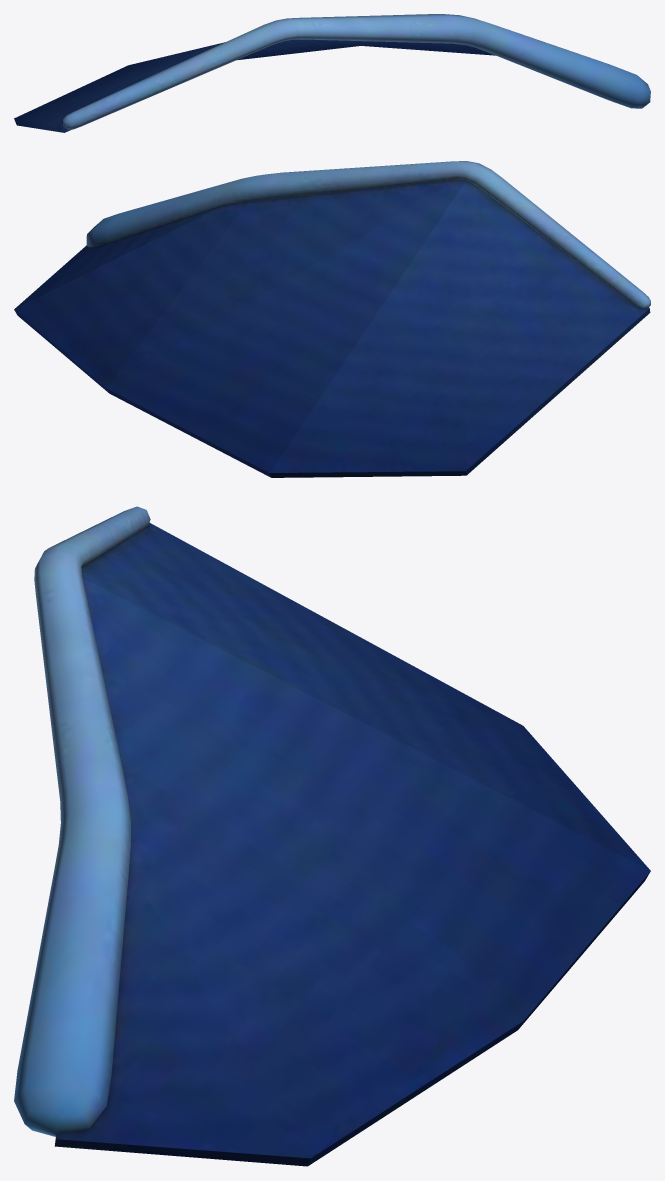
Rendered from u_drakewingR_f_g.glb.
3 renders of one model, top to bottom at view 1: azimuth 30°, elevation 25°; view 2: azimuth 150°, elevation 25°; view 3: azimuth 270°, elevation 25°, orthographic. The views are drawn at different scales.
Visible parts, largest first — view 1: u_drakewingR_f; view 2: u_drakewingR_f; view 3: u_drakewingR_f.
Part boxes in pixels (<box>): u_drakewingR_f: <box>14,14,650,132</box>; u_drakewingR_f: <box>14,161,650,477</box>; u_drakewingR_f: <box>14,506,650,1166</box>.
Size of the model in its own units: 2.6 by 0.8023 by 1.5.
Materials: 1 (1 with a texture image).
